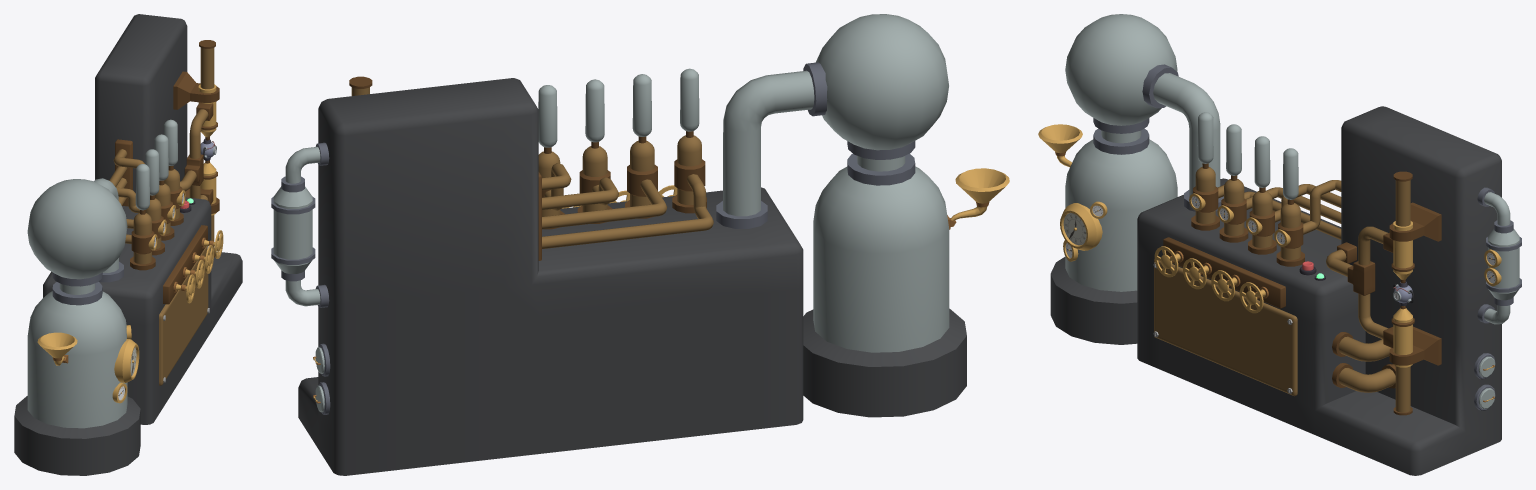
The model's file is SteamCore.fbx.
The picture shows the model from 3 angles, left to right: view 1: azimuth 30°, elevation 25°; view 2: azimuth 150°, elevation 25°; view 3: azimuth 270°, elevation 25°; orthographic projection. The views are drawn at different scales.
Parts seen in each view (by area): view 1: SCM_Body, SCM_Panel, SCM_Piston_Top, Steamcore_Body; view 2: SCM_Body; view 3: SCM_Body, SCM_Panel, SCM_Piston_Top, SCM_Piston_Bottom, SCM_Valve_04, SCM_Valve_02, SCM_Valve_01.
Part boxes in pixels (x1,y1,x2,y2): SCM_Body: (14,14,242,475); SCM_Panel: (159,246,208,385); SCM_Piston_Top: (199,40,215,89); Steamcore_Body: (200,139,216,160); SCM_Body: (271,14,1009,475); SCM_Body: (1038,14,1521,475); SCM_Panel: (1154,259,1297,395); SCM_Piston_Top: (1393,171,1412,226); SCM_Piston_Bottom: (1393,366,1412,415); SCM_Valve_04: (1239,282,1263,313); SCM_Valve_02: (1183,258,1206,289); SCM_Valve_01: (1154,246,1178,277).
Size of the model in its own units: 520 by 366 by 542.
29 materials, 3 textured.
